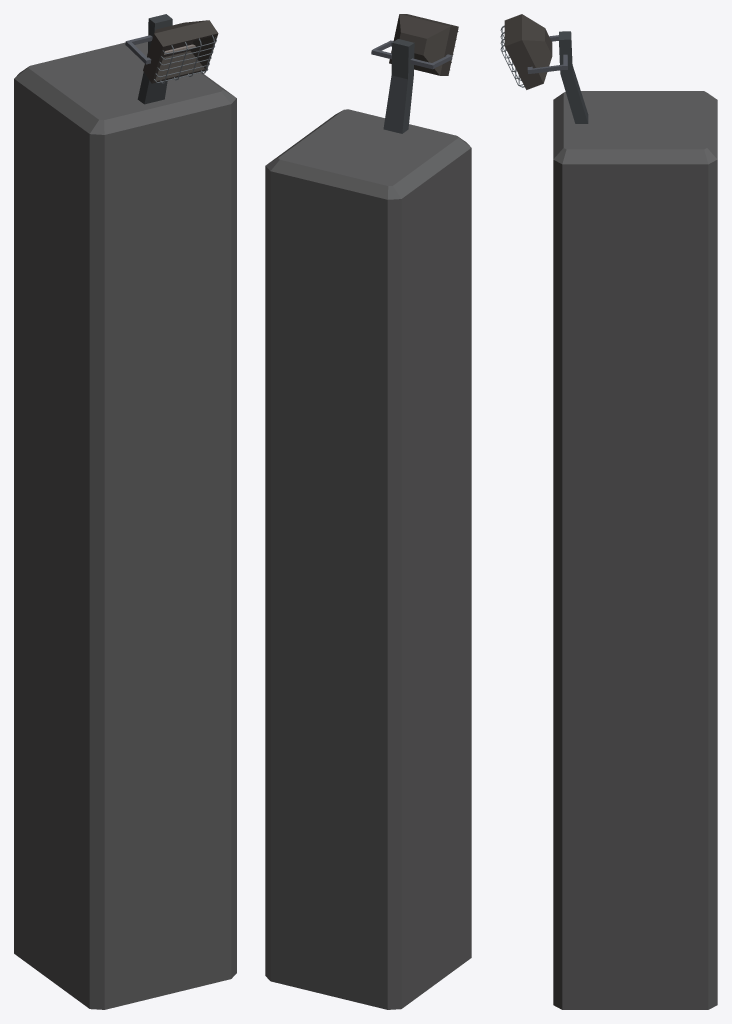
Rendered from SM_Column_02.glb.
3 views of the same model, side by side, from view 1: azimuth 30°, elevation 25°; view 2: azimuth 150°, elevation 25°; view 3: azimuth 270°, elevation 25° (orthographic). The views are drawn at different scales.
Visible parts, largest first — view 1: SM_Column_02; view 2: SM_Column_02; view 3: SM_Column_02.
Part boxes in pixels (left/top/right/bottom): SM_Column_02: left=14, top=14, right=236, bottom=1009; SM_Column_02: left=265, top=14, right=471, bottom=1009; SM_Column_02: left=500, top=14, right=717, bottom=1009.
Bounding box in the file's own units: 1 × 6.36 × 1.32.
Materials: 1 (1 with a texture image).
